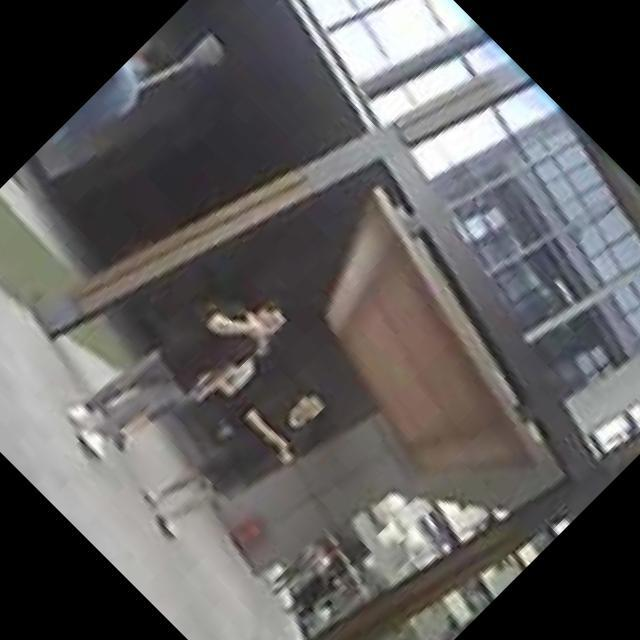person: (59, 254, 292, 488), (131, 354, 339, 562), (98, 295, 286, 482), (0, 36, 178, 217), (264, 532, 336, 604), (284, 553, 349, 619)
